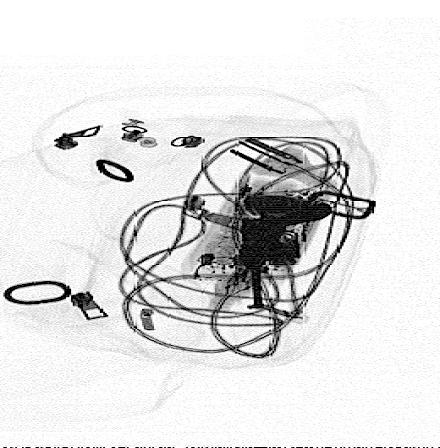Gun: (236, 199, 335, 308)
